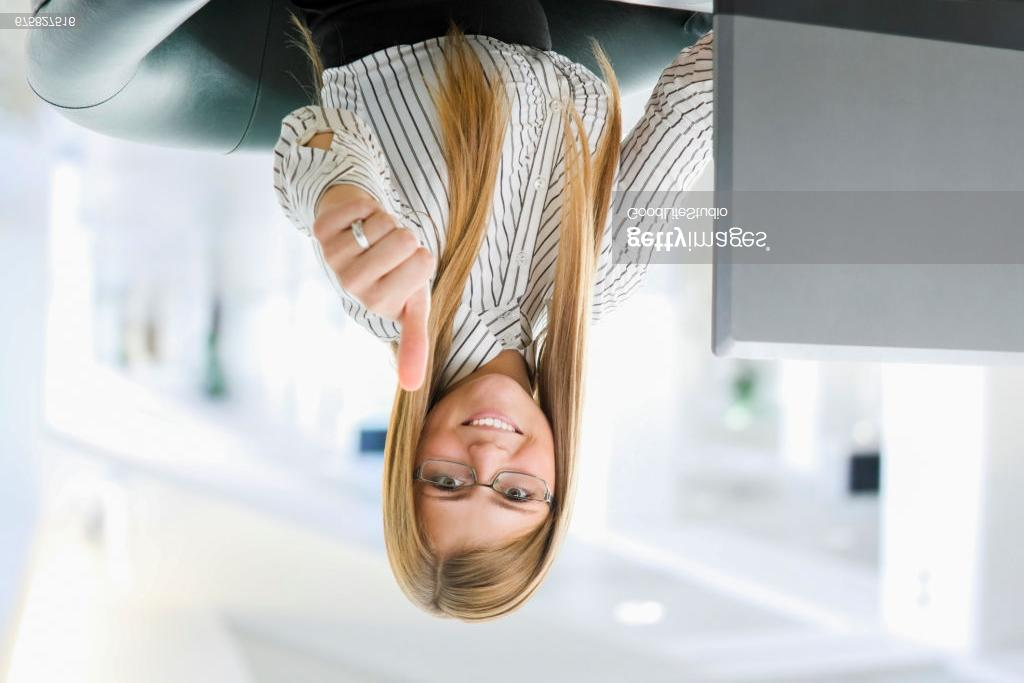thumbsdown: (311, 200, 433, 392)
